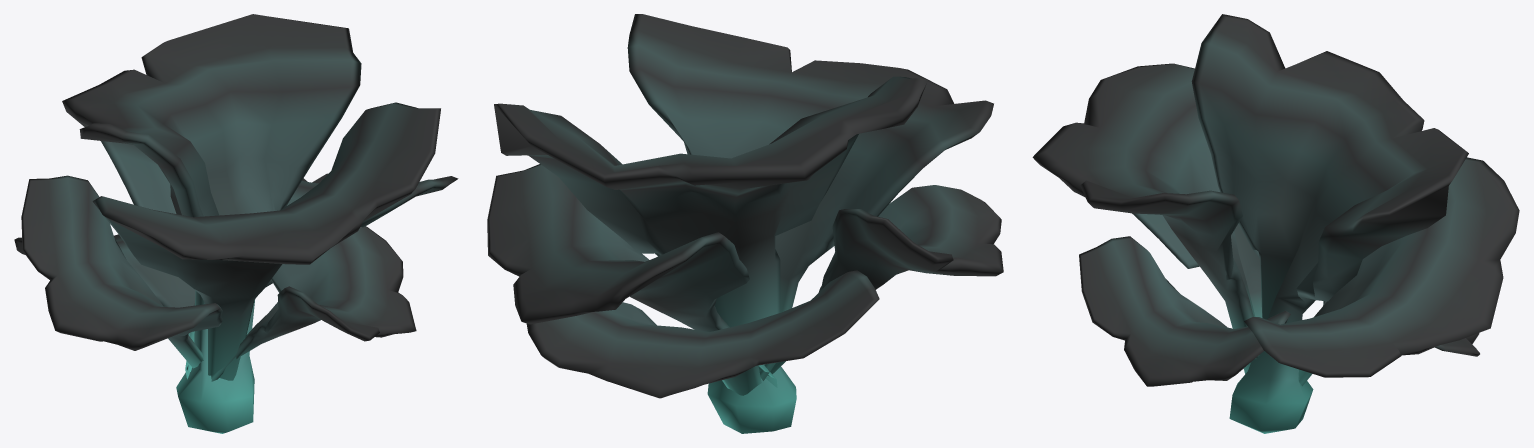
Rendered from plants-mushrooms-ruffled-fungus_v1.fbx.
3 views of the same model, side by side, from view 1: azimuth 30°, elevation 25°; view 2: azimuth 150°, elevation 25°; view 3: azimuth 270°, elevation 25° (orthographic). The views are drawn at different scales.
Parts seen in each view (by area): view 1: Ruffled Fungus_v1; view 2: Ruffled Fungus_v1; view 3: Ruffled Fungus_v1.
Part boxes in pixels (x1,y1,x2,y2): Ruffled Fungus_v1: (14, 14, 458, 433); Ruffled Fungus_v1: (487, 14, 1003, 433); Ruffled Fungus_v1: (1032, 14, 1519, 433).
Size of the model in its own units: 0.2 by 0.1532 by 0.1918.
